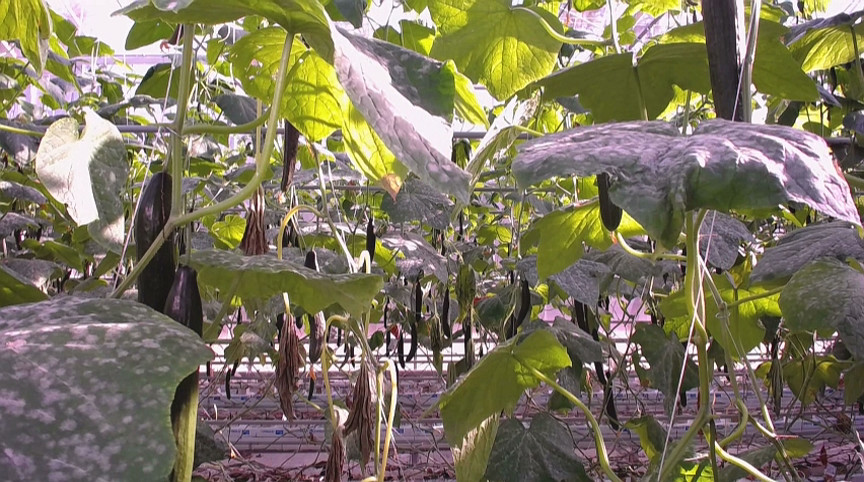cucumber: (164, 267, 203, 482), (702, 1, 746, 122), (137, 172, 175, 311), (303, 251, 327, 365), (598, 173, 623, 230), (280, 119, 299, 192)
